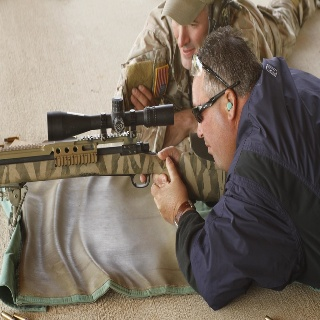rifle: (1, 91, 228, 209)
